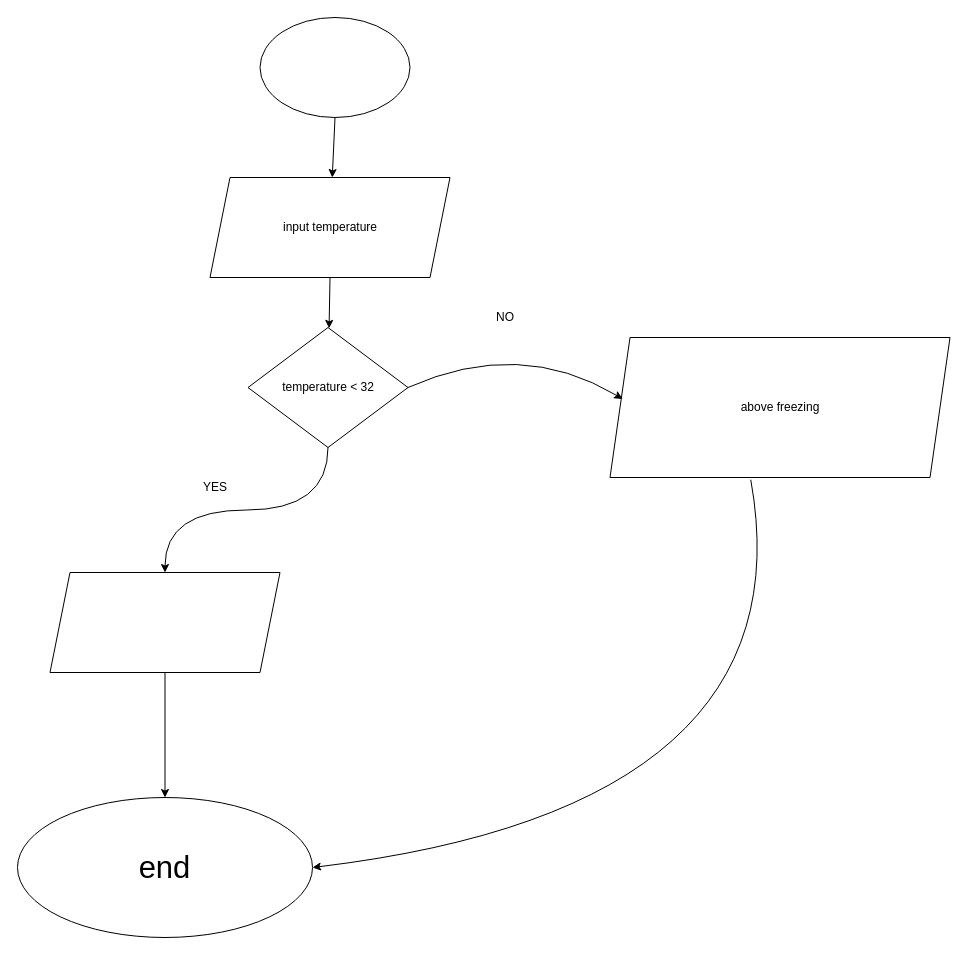
Some shapes in this 968 by 955 pixel diagram are drawn without their labels. The centre of each missing label's shape, as x and y in pixels:
below freezing: point (164, 622)
start: point (334, 67)
